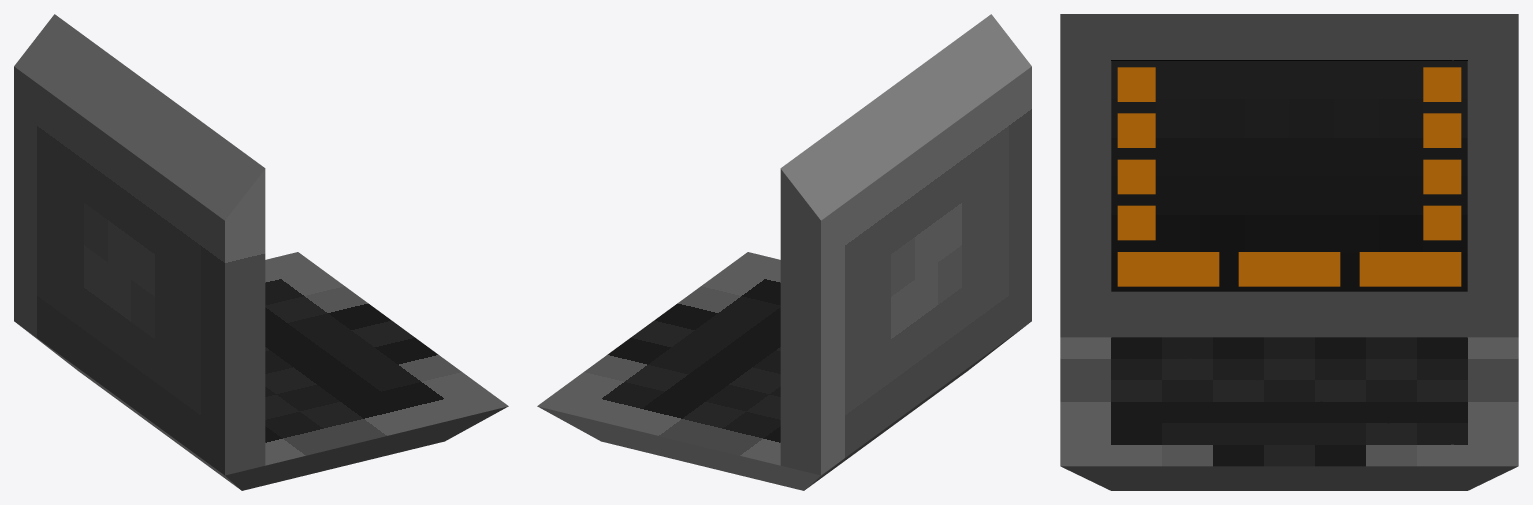
The model's file is unu_tuning_kit.obj.
3 renders of one model, left to right at view 1: azimuth 30°, elevation 25°; view 2: azimuth 150°, elevation 25°; view 3: azimuth 270°, elevation 25°, orthographic. The views are drawn at different scales.
Parts seen in each view (by area): view 1: mesh; view 2: mesh; view 3: mesh, screen, buttons.
Part boxes in pixels (bbox=[...]): mesh: bbox=[14, 14, 508, 490]; mesh: bbox=[537, 14, 1031, 490]; mesh: bbox=[1060, 14, 1518, 490]; screen: bbox=[1111, 61, 1467, 291]; buttons: bbox=[1117, 67, 1461, 286].
Bounding box in the file's own units: 0.4375 × 0.5 × 0.5625.
